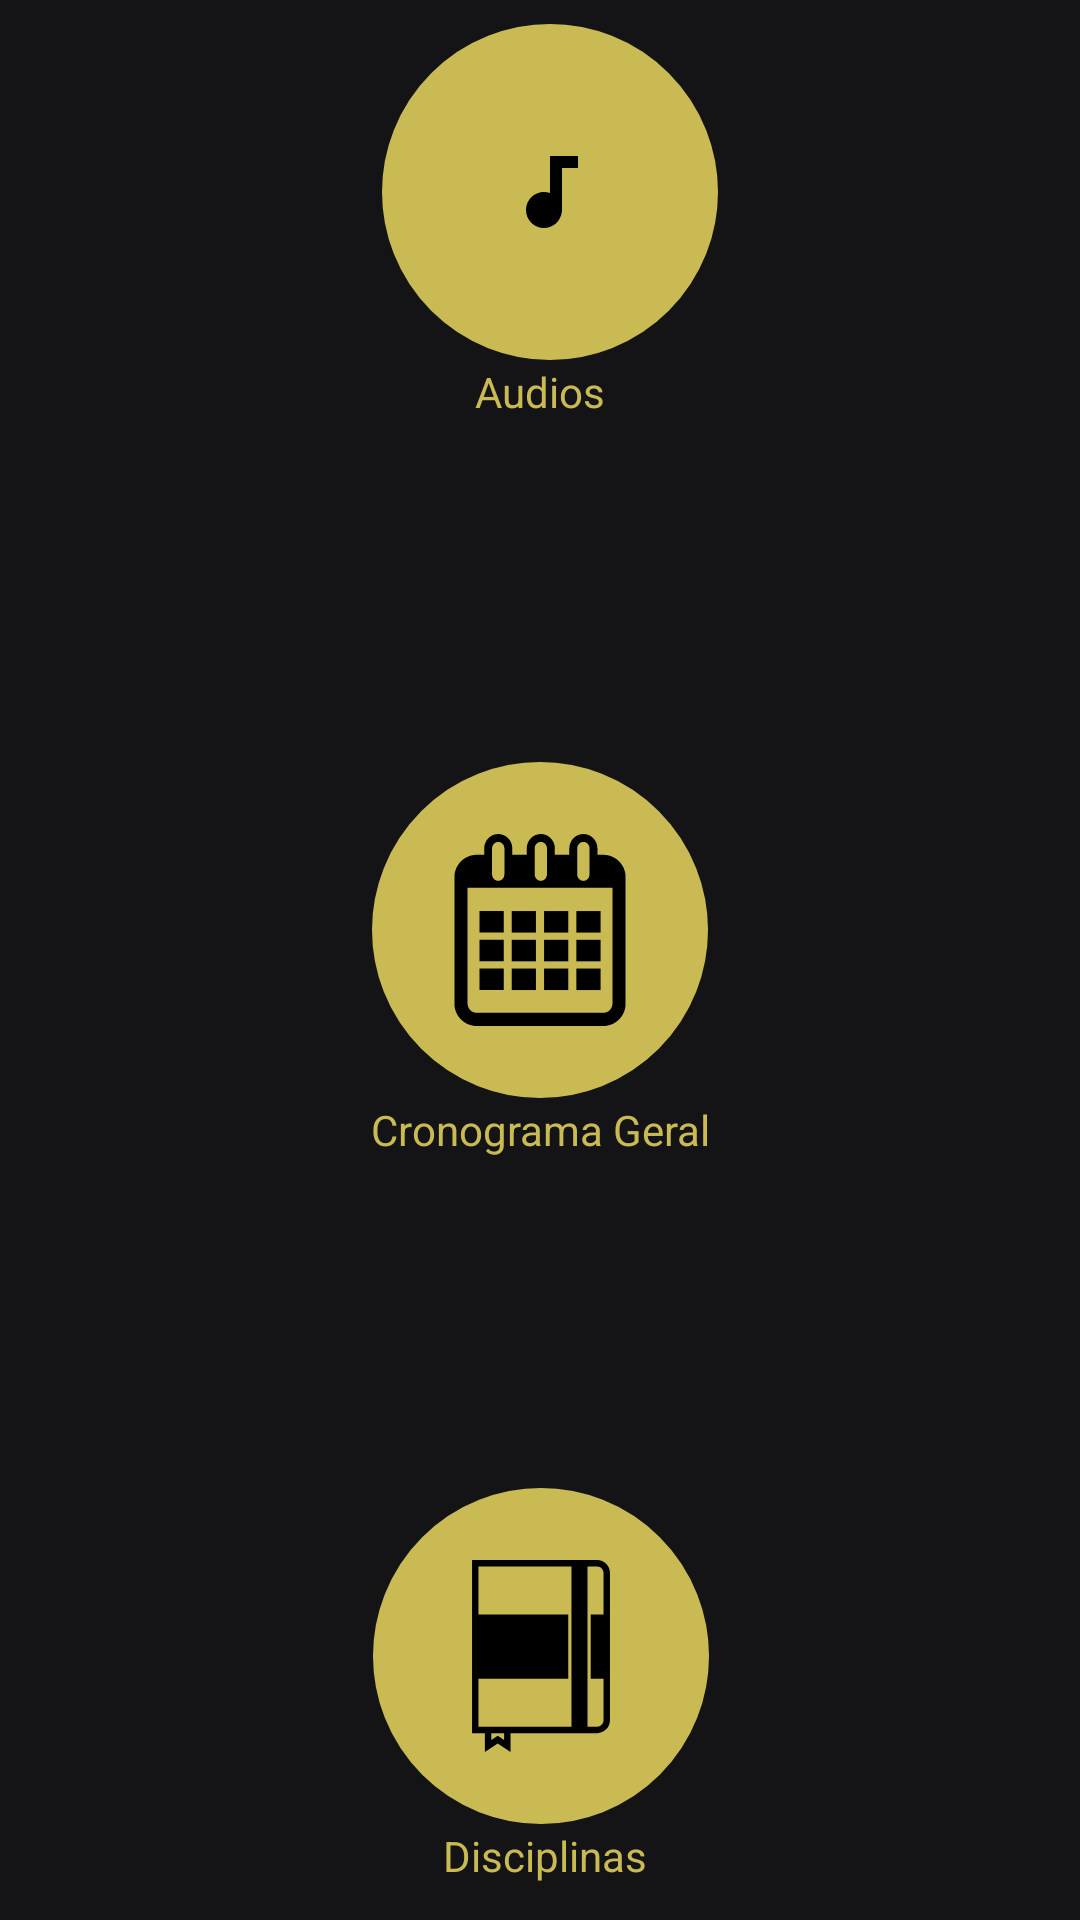

Icon bounding boxes for this 1080px x 1920px phone screenshot, format region(x1, y1, x2, y2):
fuck calendario: region(372, 762, 708, 1098)
